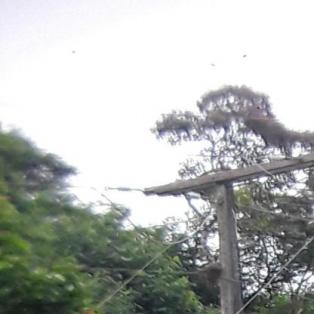Poste: (199, 162, 271, 314)
